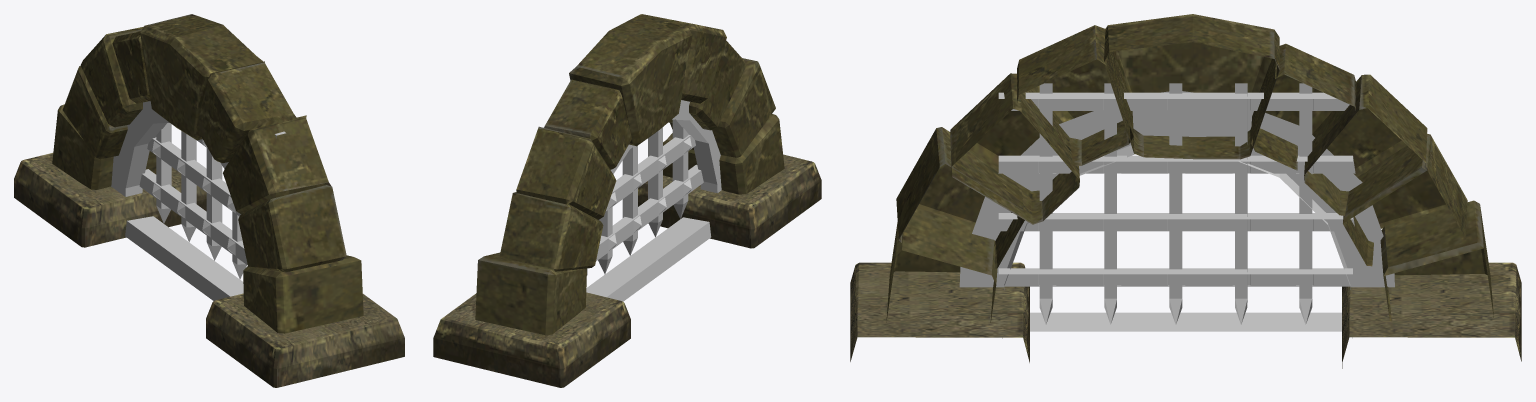
File: Stage001_DOOR_03.FBX
3 renders of one model, left to right at view 1: azimuth 30°, elevation 25°; view 2: azimuth 150°, elevation 25°; view 3: azimuth 270°, elevation 25°, orthographic. The views are drawn at different scales.
Visible parts, largest first — view 1: Stage001_DOOR_03; view 2: Stage001_DOOR_03; view 3: Stage001_DOOR_03.
Boxes of the visible parts, x1,y1,x2,y2 form: Stage001_DOOR_03: [14, 14, 404, 387]; Stage001_DOOR_03: [433, 14, 821, 387]; Stage001_DOOR_03: [850, 14, 1521, 368].
Size of the model in its own units: 138 by 249 by 479.
